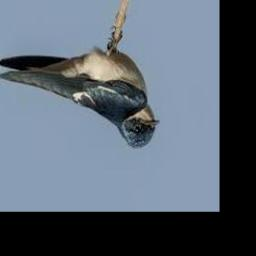Swallow: (0, 38, 159, 149)
